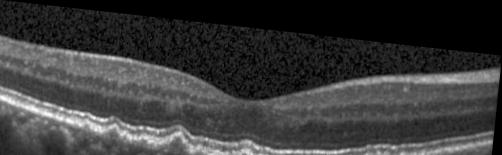retinal_drusen: (160, 131, 192, 150), (106, 124, 123, 137), (136, 135, 158, 145), (195, 144, 210, 155), (83, 120, 94, 131), (240, 147, 254, 155), (367, 144, 376, 155), (123, 131, 132, 139), (212, 149, 223, 155), (385, 144, 391, 153), (377, 145, 383, 154)
